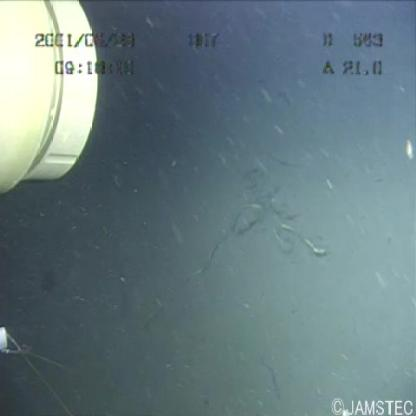Rov: (1, 1, 101, 199), (1, 300, 100, 416), (341, 401, 355, 416)
Rác: (169, 128, 348, 291)
